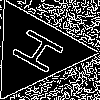H: (9, 26, 75, 82)
